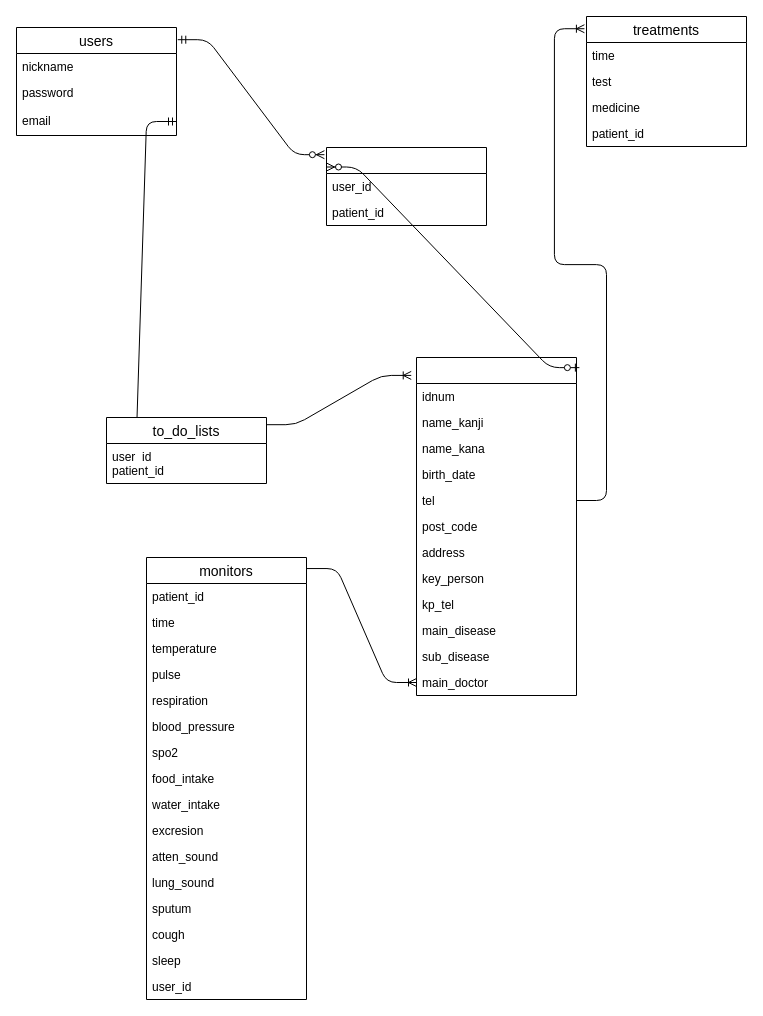
Some shapes in this 763 by 1016 pixel diagram are drawn without their labels. Here are the shapes that lost their labels. From the top down, the box of each, then its label:
(326, 146, 486, 226): patient＿users
(416, 356, 576, 696): patients
